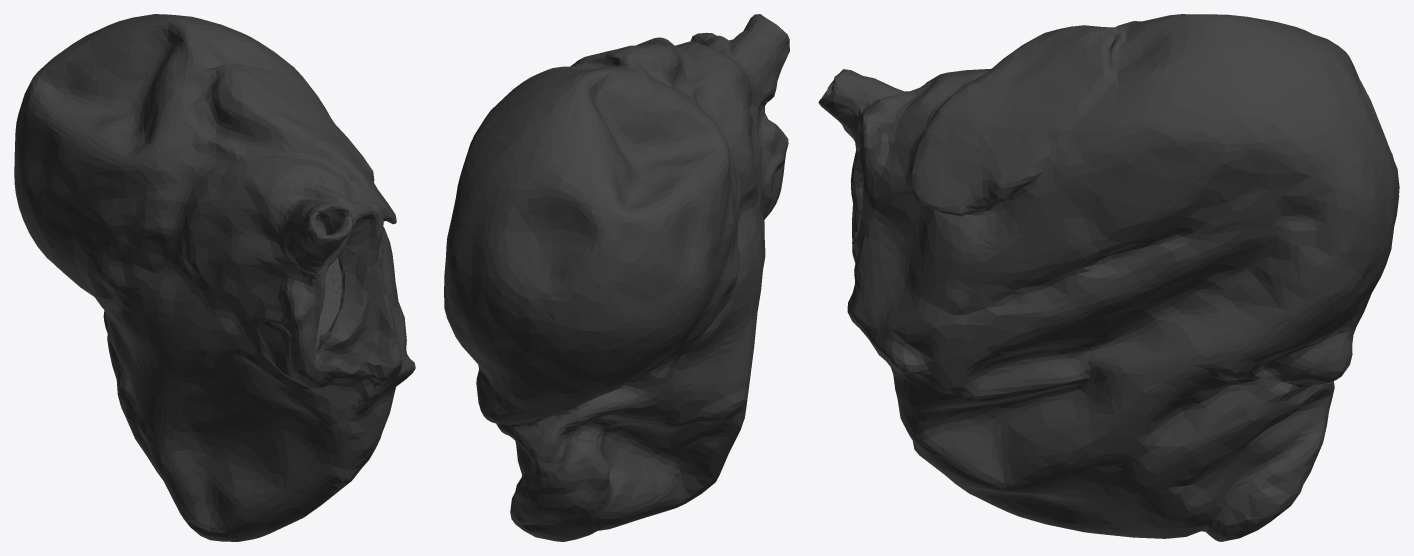
Rendered from Goat_rumen_low.glb.
3 renders of one model, left to right at view 1: azimuth 30°, elevation 25°; view 2: azimuth 150°, elevation 25°; view 3: azimuth 270°, elevation 25°, orthographic. The views are drawn at different scales.
Visible parts, largest first — view 1: Goat_rumen_low; view 2: Goat_rumen_low; view 3: Goat_rumen_low.
Boxes of the visible parts, box(x1,y1,x2,y2) form: Goat_rumen_low: box(14, 14, 415, 541); Goat_rumen_low: box(444, 14, 789, 541); Goat_rumen_low: box(818, 14, 1399, 541).
Bounding box in the file's own units: 1.88 × 3.55 × 3.6.
Materials: 1 (1 with a texture image).
